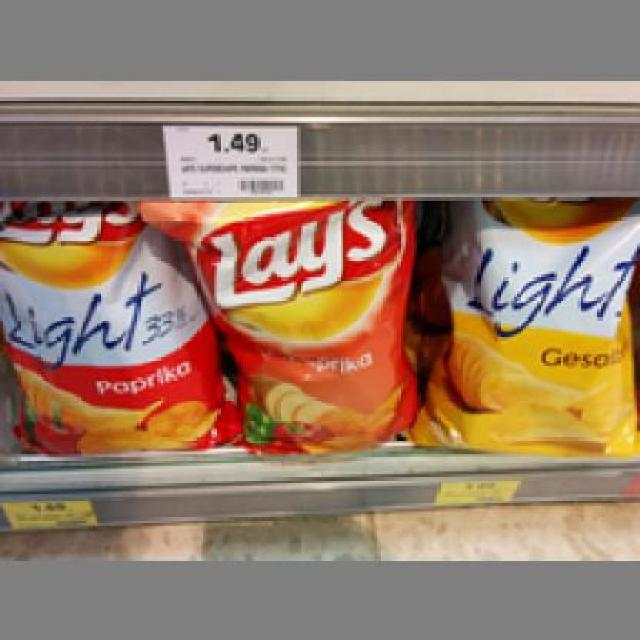Chips: (149, 200, 417, 454), (1, 202, 232, 452), (412, 197, 637, 443)
